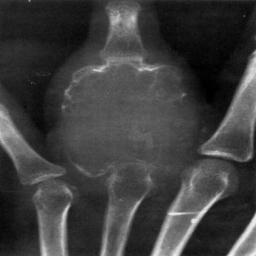cancer: (47, 66, 199, 179)
